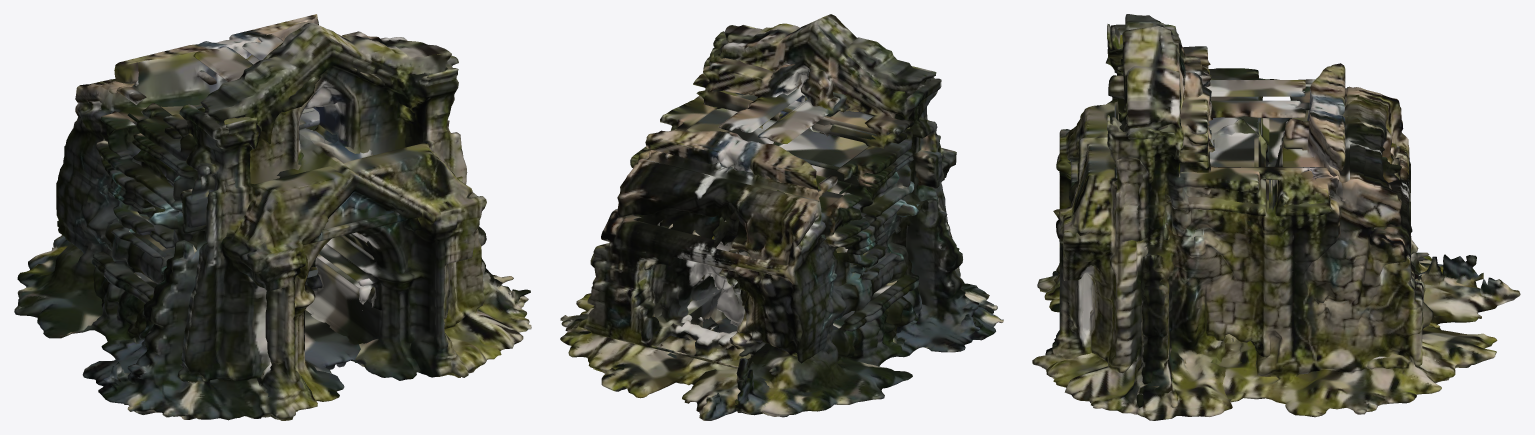
Rendered from ruined_chapel.glb.
3 renders of one model, left to right at view 1: azimuth 30°, elevation 25°; view 2: azimuth 150°, elevation 25°; view 3: azimuth 270°, elevation 25°, orthographic. The views are drawn at different scales.
Parts seen in each view (by area): view 1: geometry_0; view 2: geometry_0; view 3: geometry_0.
Part boxes in pixels (x1,y1,x2,y2): geometry_0: (14,14,531,420); geometry_0: (560,14,1003,420); geometry_0: (1032,14,1520,420).
Bounding box in the file's own units: 2 × 1.5 × 2.17.
Materials: 1 (1 with a texture image).
